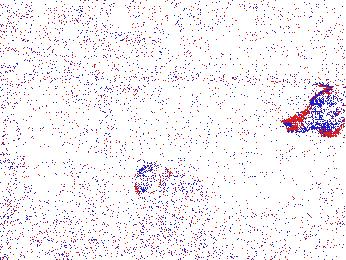flame jellyfish: (284, 88, 346, 134), (48, 184, 91, 231), (136, 162, 173, 197)
